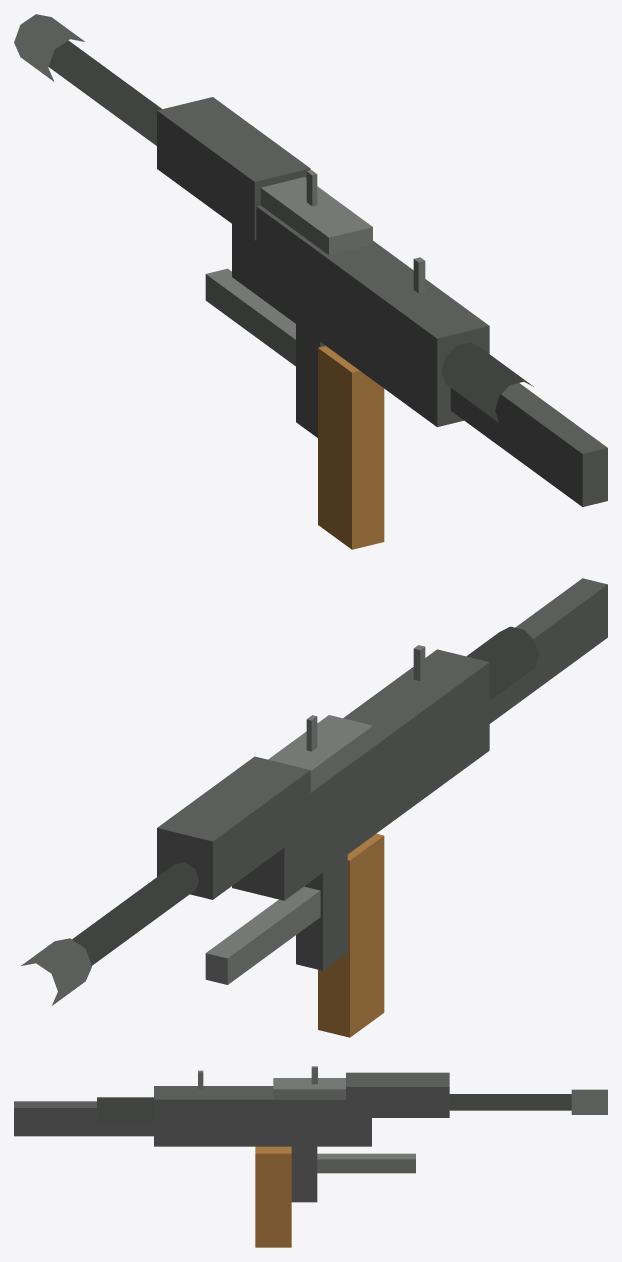
3 renders of one model, top to bottom at view 1: azimuth 30°, elevation 25°; view 2: azimuth 150°, elevation 25°; view 3: azimuth 270°, elevation 25°, orthographic. The views are drawn at different scales.
Parts seen in each view (by area): view 1: body; view 2: body; view 3: body.
Boxes of the visible parts, x1,y1,x2,y2 form: body: [14, 14, 607, 549]; body: [21, 578, 607, 1037]; body: [14, 1066, 607, 1247].
Size of the model in its own units: 0.066 by 0.375 by 1.15.
